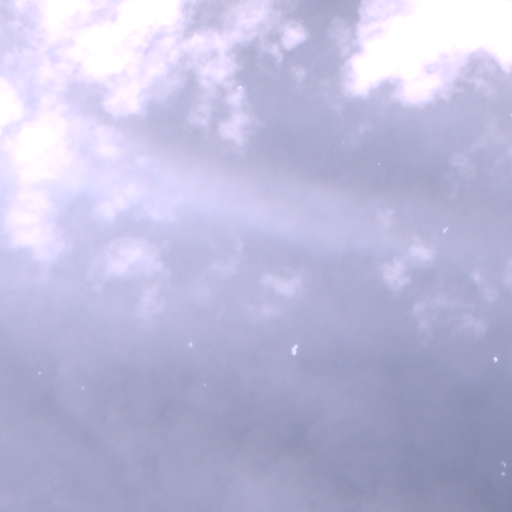Iceberg: (292, 344, 297, 355), (501, 461, 505, 467), (443, 227, 447, 232), (494, 357, 497, 362), (189, 342, 192, 346), (501, 472, 504, 474), (38, 371, 40, 373), (378, 163, 380, 164)
